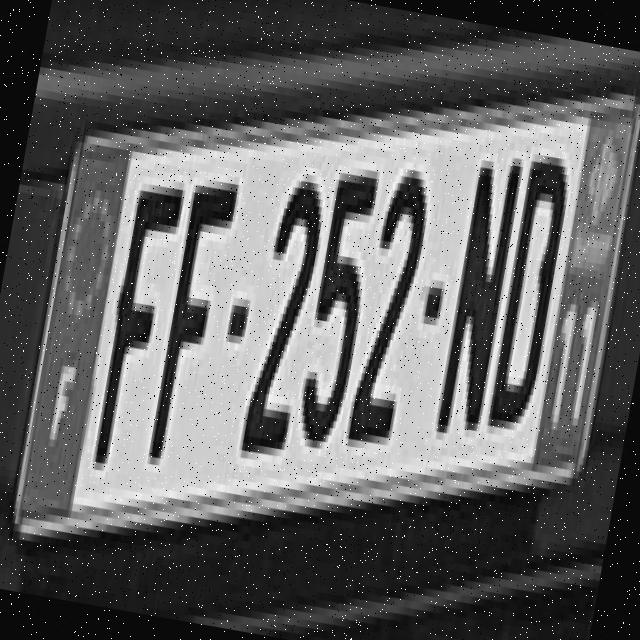EU: (14, 105, 639, 524)
France: (17, 146, 131, 515)
